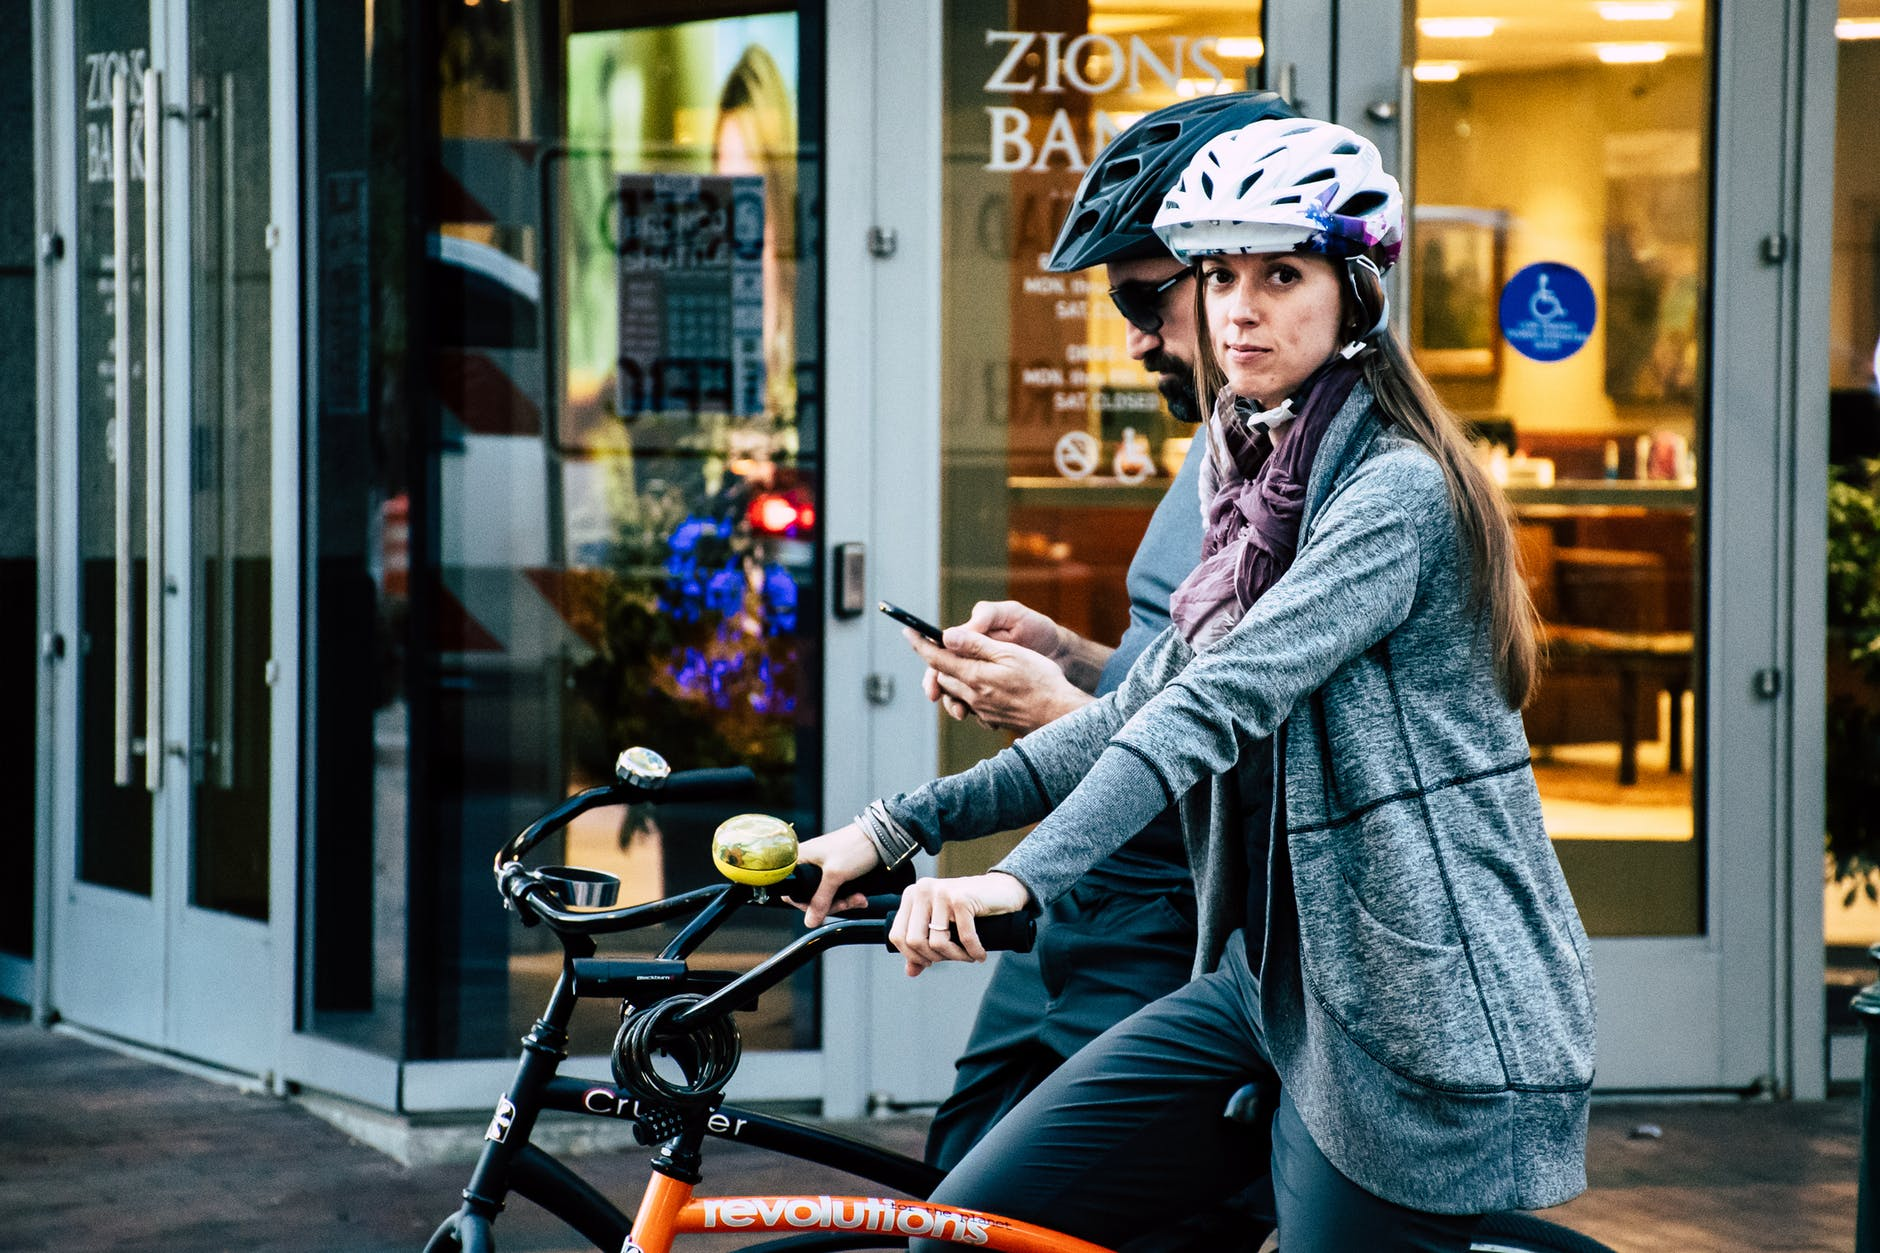helmet: (1046, 89, 1265, 250), (1185, 134, 1394, 275)
